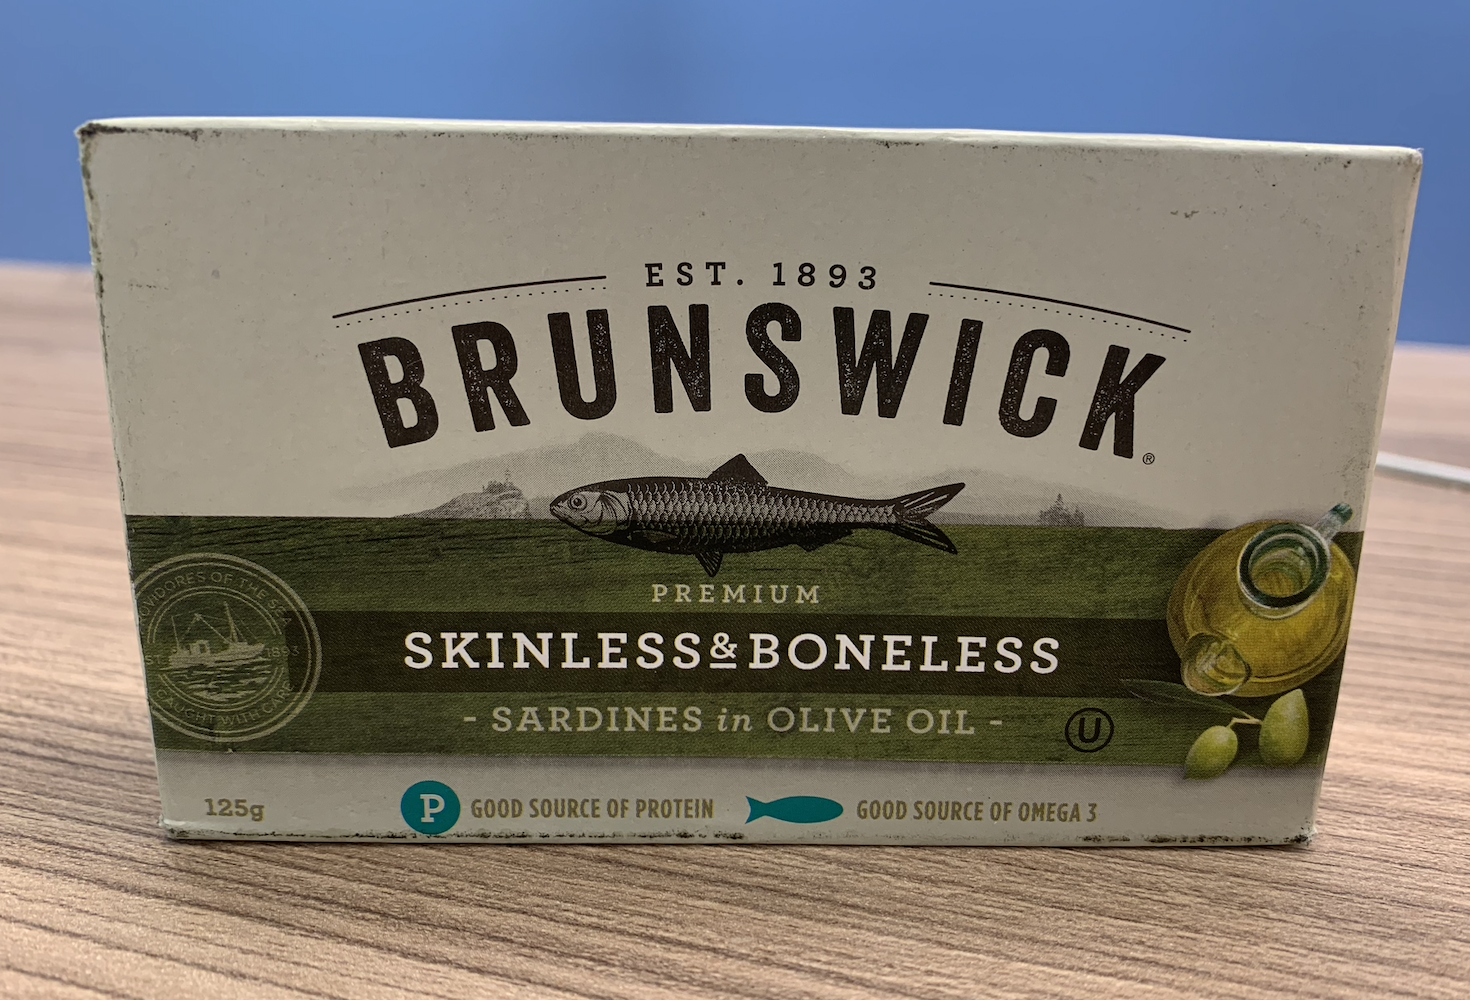sardines_150g: (160, 164, 1306, 825)
